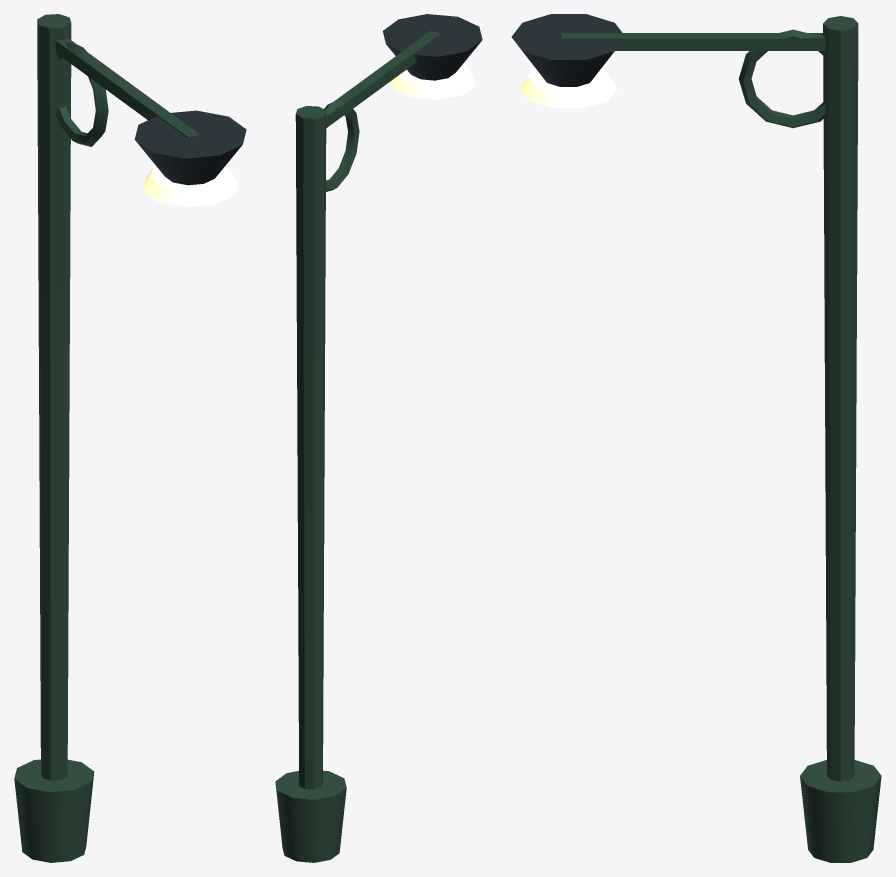
Rendered from town_lamp.glb.
3 renders of one model, left to right at view 1: azimuth 30°, elevation 25°; view 2: azimuth 150°, elevation 25°; view 3: azimuth 270°, elevation 25°, orthographic. The views are drawn at different scales.
Visible parts, largest first — view 1: TownLamp_body; view 2: TownLamp_body; view 3: TownLamp_body.
Part boxes in pixels (x1,y1,x2,y2): TownLamp_body: (14,14,246,862); TownLamp_body: (275,14,482,862); TownLamp_body: (511,14,881,862).
Bounding box in the file's own units: 0.7989 × 6.7 × 2.72.
